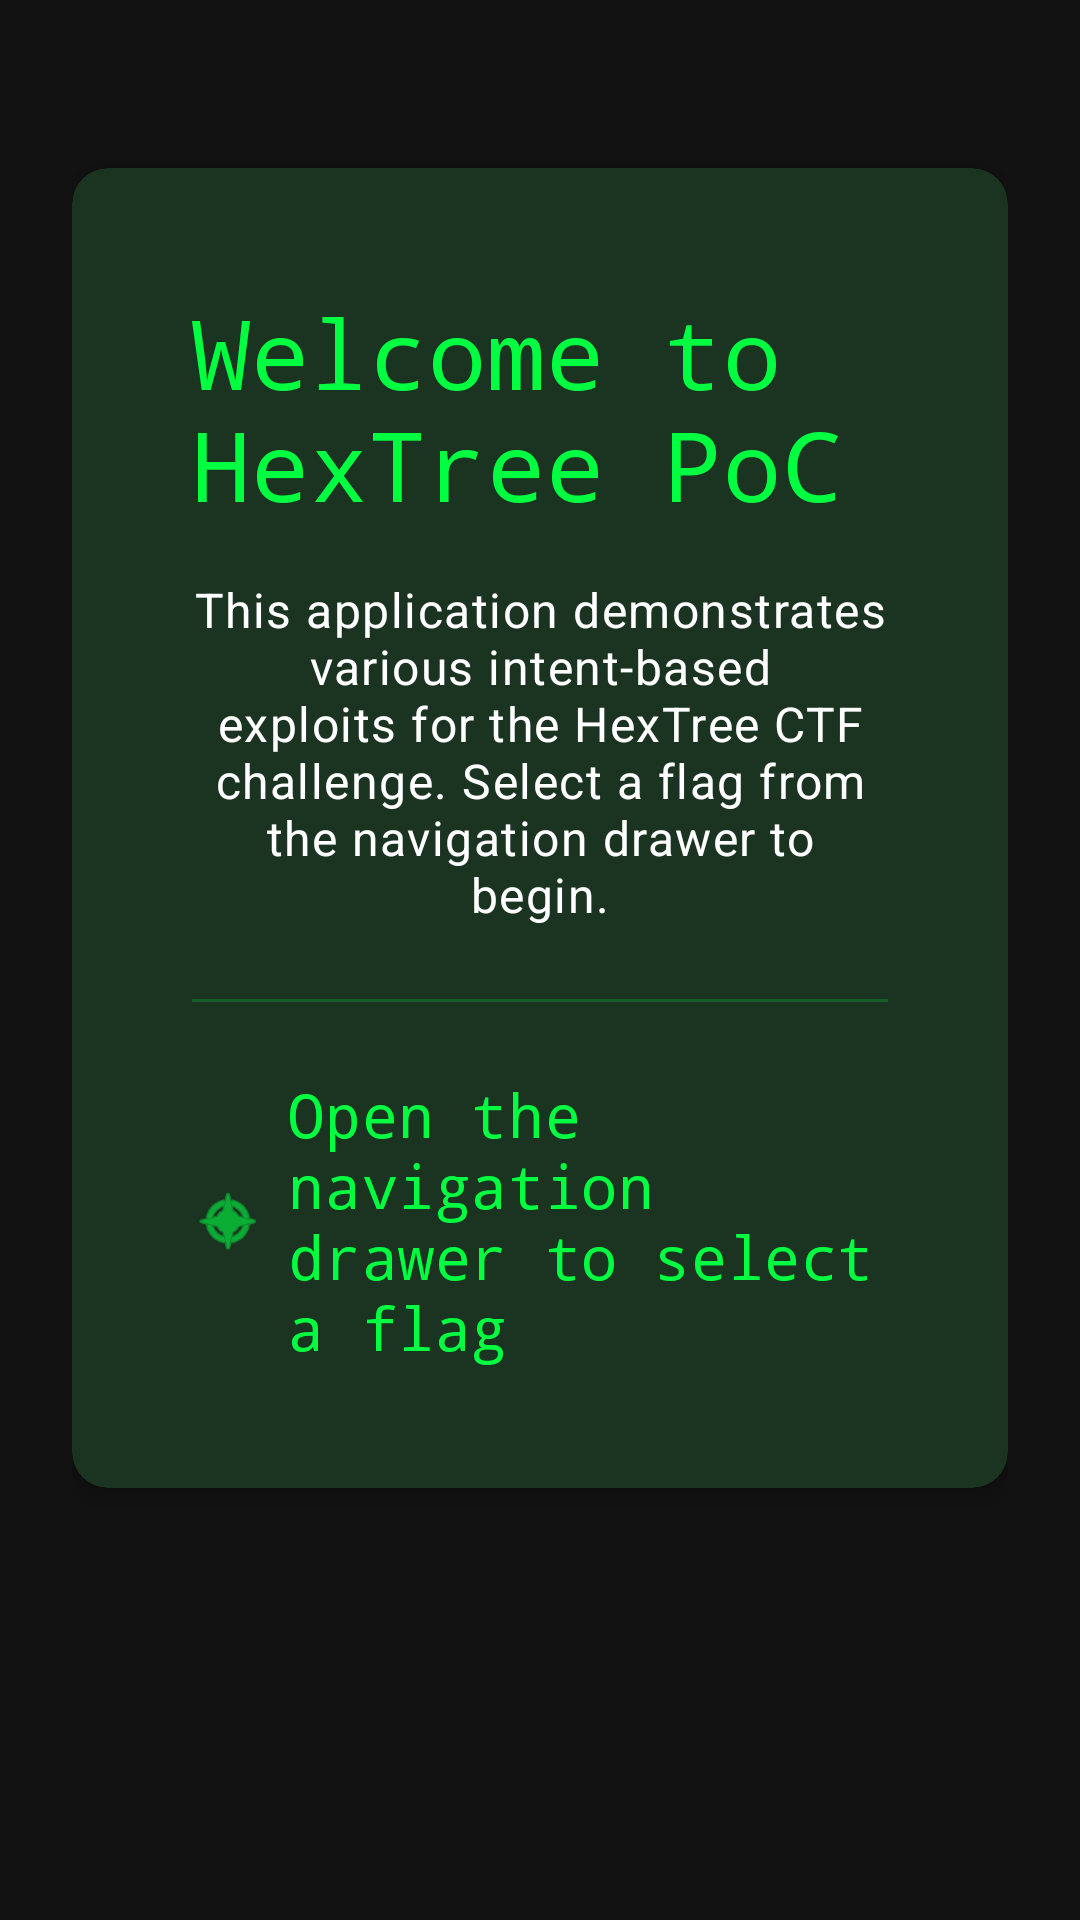

Point at icon controls on the screen. Image size 1080w x 1920h, points as (x=x, y=y).
compass: (x=227, y=1221)
